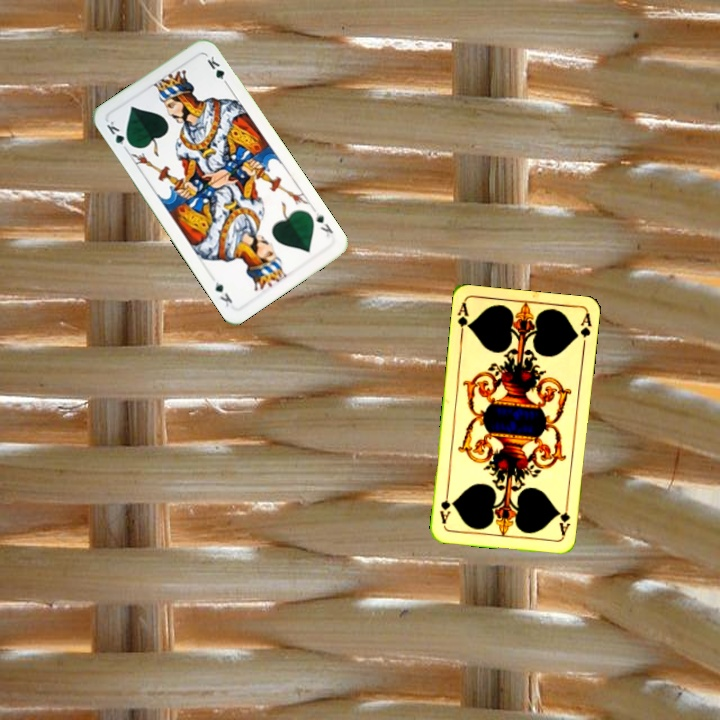GA: (454, 299, 473, 339), (555, 499, 573, 539)
GK: (102, 116, 134, 154), (312, 208, 336, 240)
